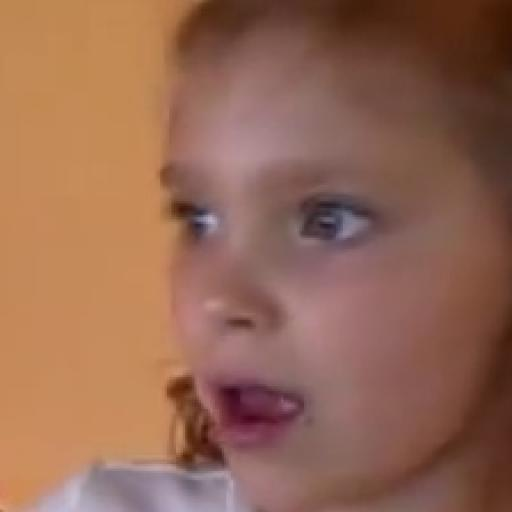Autism: (153, 16, 512, 512)
